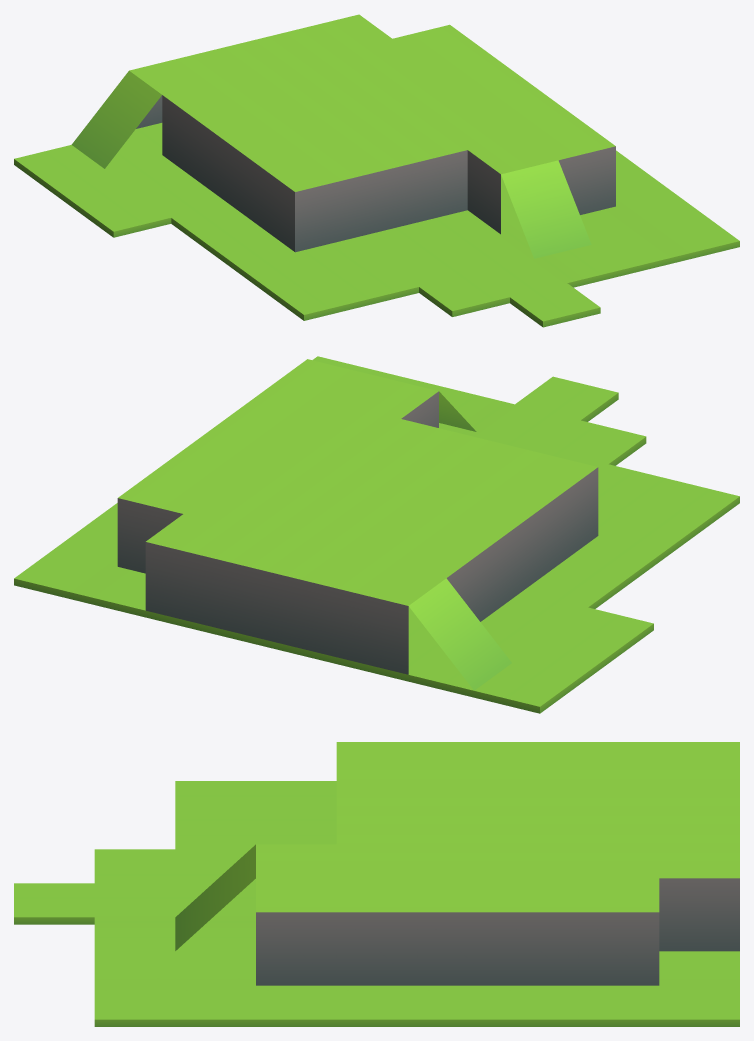
The model's file is SM_Env_Island_One.fbx.
The picture shows the model from 3 angles, top to bottom: view 1: azimuth 30°, elevation 25°; view 2: azimuth 150°, elevation 25°; view 3: azimuth 270°, elevation 25°; orthographic projection. The views are drawn at different scales.
Parts seen in each view (by area): view 1: Cube.001, Cube; view 2: Cube.001, Cube; view 3: Cube.001, Cube.
Boxes of the visible parts, x1,y1,x2,y2 form: Cube.001: [71, 14, 615, 258]; Cube: [14, 123, 739, 327]; Cube.001: [117, 359, 598, 690]; Cube: [14, 356, 739, 713]; Cube.001: [175, 742, 739, 985]; Cube: [14, 781, 739, 1026].
Bounding box in the file's own units: 800 × 110 × 900.
1 material, 1 textured.
